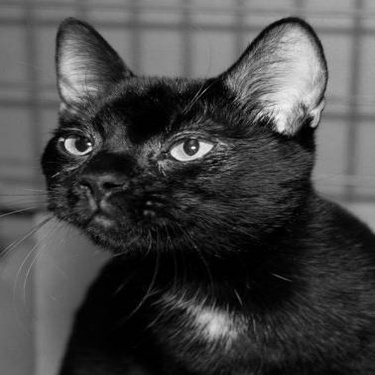cat: (43, 15, 369, 371)
